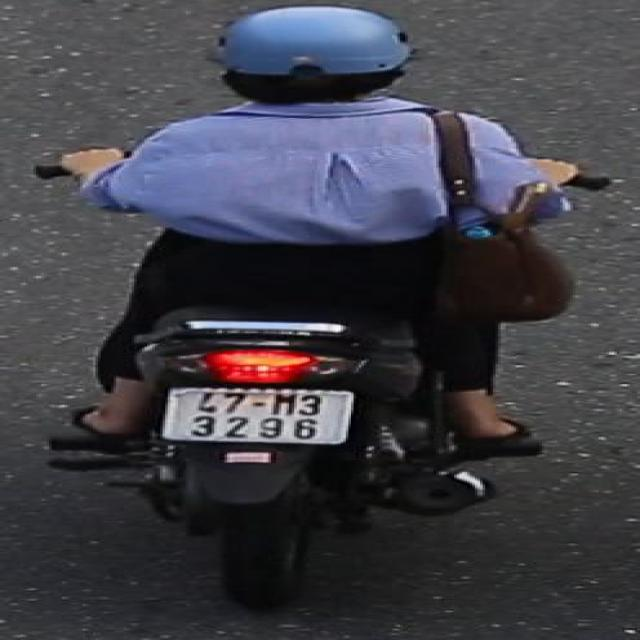LP: (155, 374, 364, 464)
helmet: (220, 0, 416, 108)
